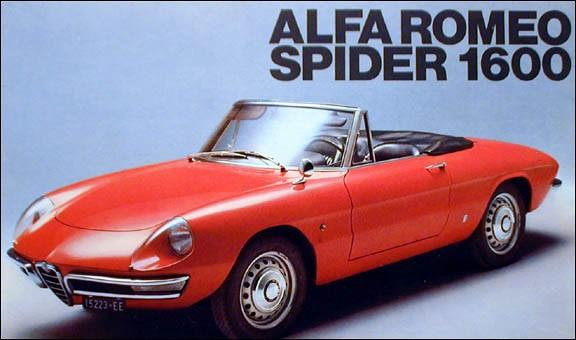windshield: (197, 104, 358, 170)
